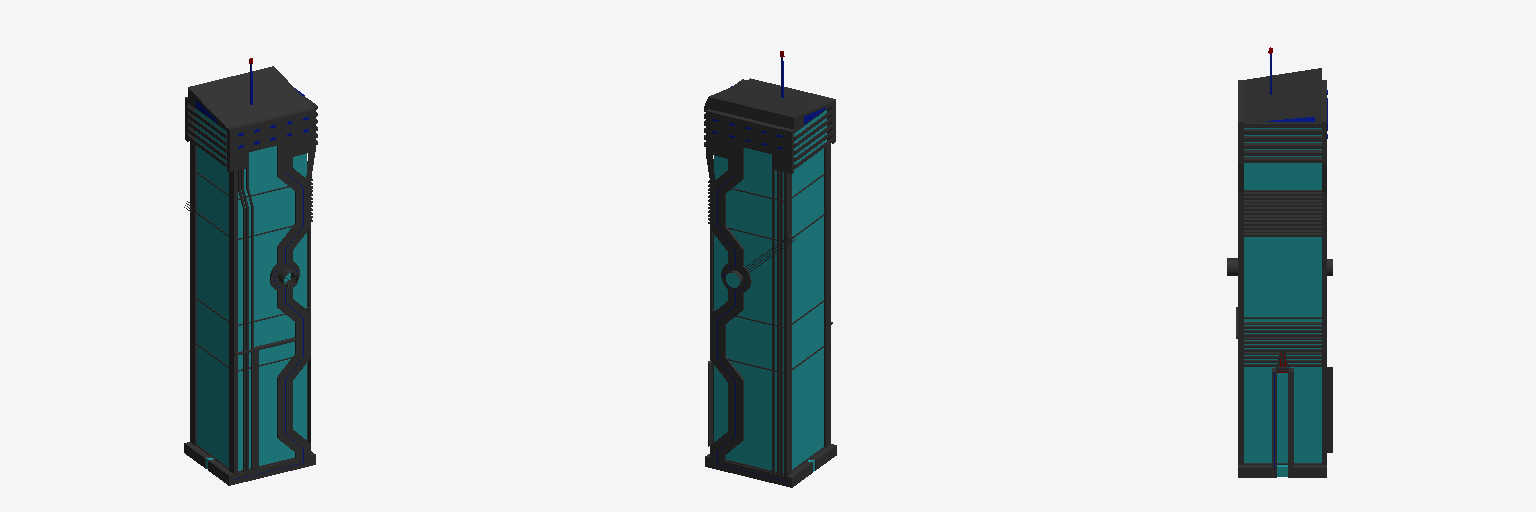
File: scifitower.obj
3 views of the same model, side by side, from view 1: azimuth 30°, elevation 25°; view 2: azimuth 150°, elevation 25°; view 3: azimuth 270°, elevation 25° (orthographic).
Visible parts, largest first — view 1: 0_curve_.013_Mesh.013; view 2: 0_curve_.013_Mesh.013; view 3: 0_curve_.013_Mesh.013.
Part boxes in pixels (left/top/right/bottom): 0_curve_.013_Mesh.013: left=184, top=58, right=317, bottom=485; 0_curve_.013_Mesh.013: left=704, top=51, right=836, bottom=487; 0_curve_.013_Mesh.013: left=1227, top=47, right=1332, bottom=477.
Size of the model in its own units: 0.3899 by 1.55 by 0.3665.